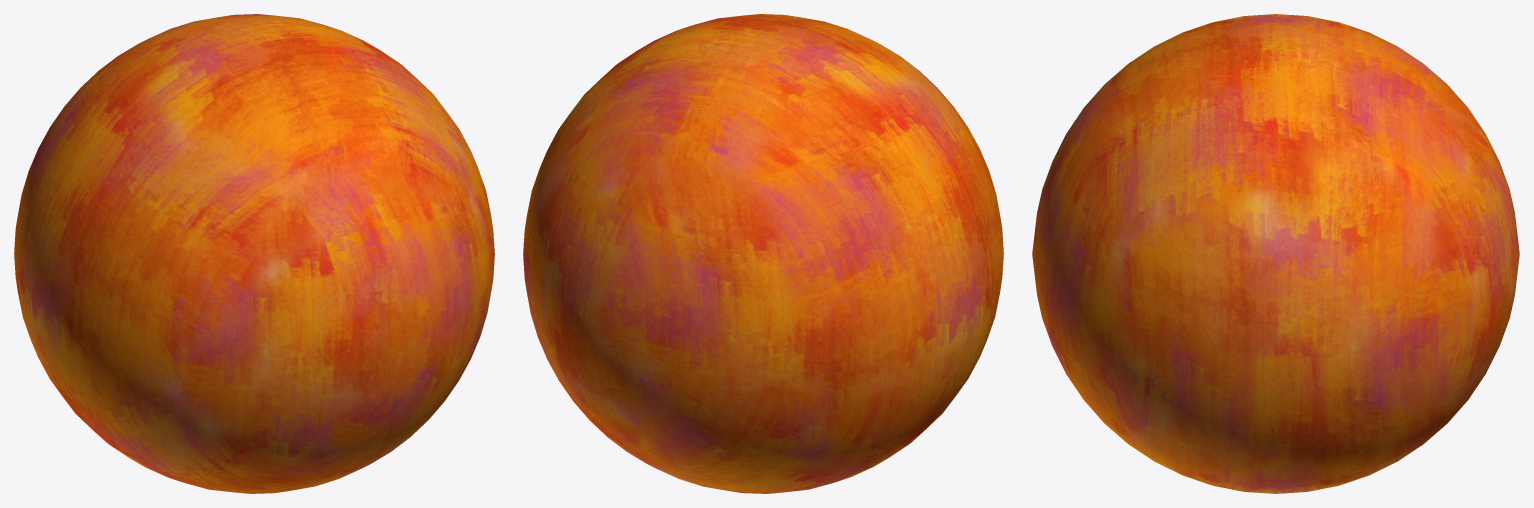
File: planetaTexturaUV.FBX
3 views of the same model, side by side, from view 1: azimuth 30°, elevation 25°; view 2: azimuth 150°, elevation 25°; view 3: azimuth 270°, elevation 25° (orthographic).
Parts seen in each view (by area): view 1: Sphere001; view 2: Sphere001; view 3: Sphere001.
Boxes of the visible parts, x1,y1,x2,y2 form: Sphere001: [14, 14, 494, 493]; Sphere001: [523, 14, 1003, 493]; Sphere001: [1032, 14, 1519, 493].
Size of the model in its own units: 19.66 by 19.66 by 19.95.
Materials: 1 (1 with a texture image).
